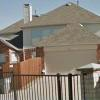Chimney: (16, 1, 41, 27)
